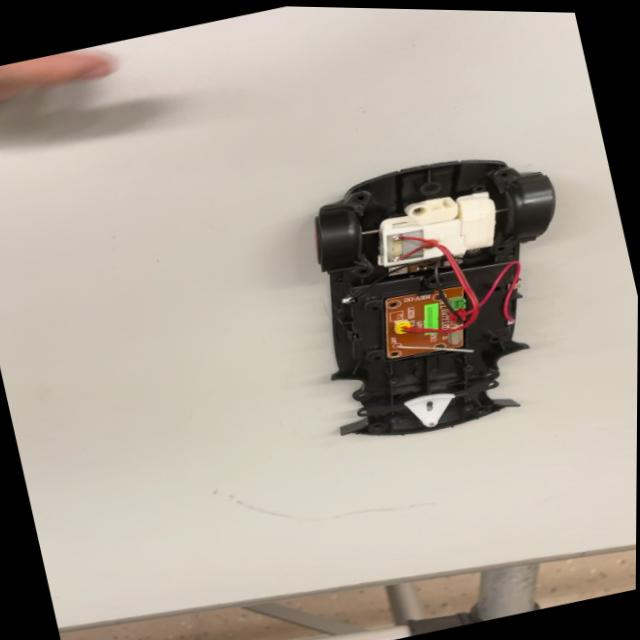Chassis: (307, 136, 593, 461)
